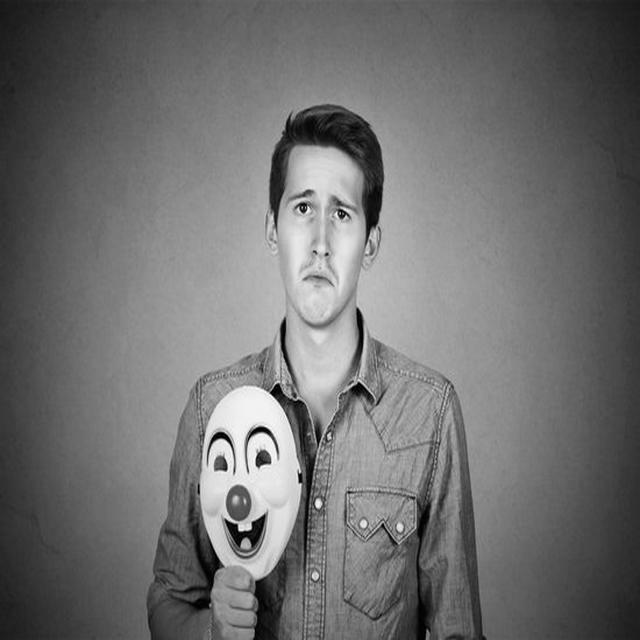Sadness: (288, 144, 362, 327)
